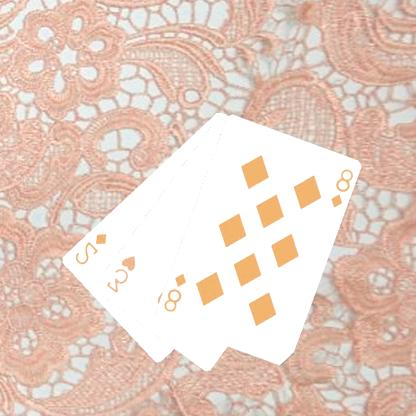2D: (73, 230, 110, 267)
3H: (104, 252, 139, 295)
8D: (162, 270, 190, 314), (328, 166, 356, 210)
